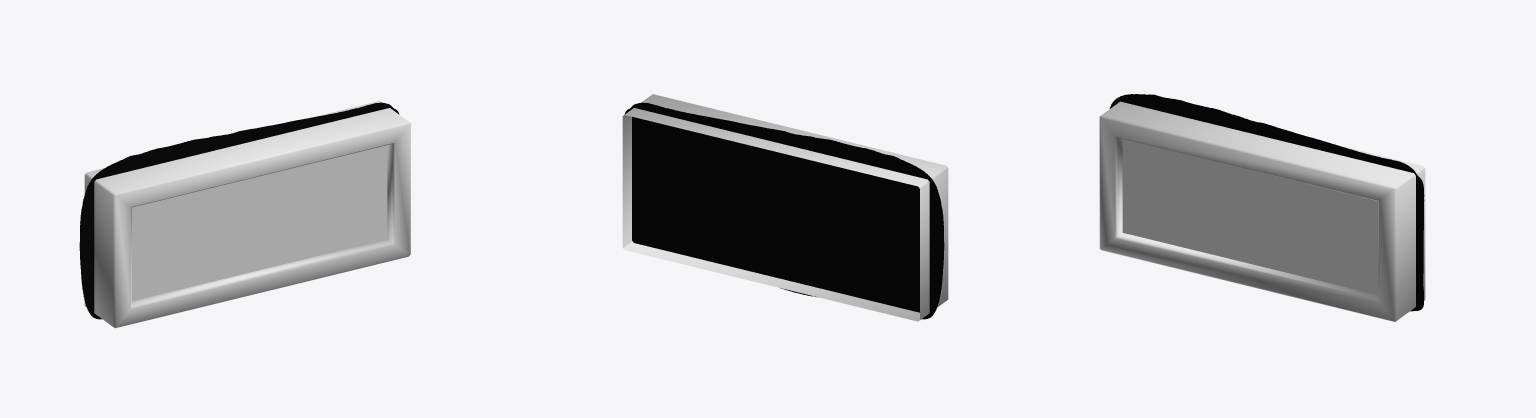
File: Exit v2.fbx
The picture shows the model from 3 angles, left to right: view 1: azimuth 30°, elevation 25°; view 2: azimuth 150°, elevation 25°; view 3: azimuth 330°, elevation 25°; orthographic projection.
Visible parts, largest first — view 1: EXIT, Exit Shadow; view 2: Exit Shadow, EXIT; view 3: EXIT, Exit Shadow.
Part boxes in pixels (box(x1,y1,x2,y2)): EXIT: box(84, 101, 410, 328); Exit Shadow: box(79, 102, 399, 319); Exit Shadow: box(624, 102, 944, 319); EXIT: box(622, 94, 948, 321); EXIT: box(1099, 101, 1425, 321); Exit Shadow: box(1109, 94, 1424, 311).
Bounding box in the file's own units: 825 × 444 × 87.29.
